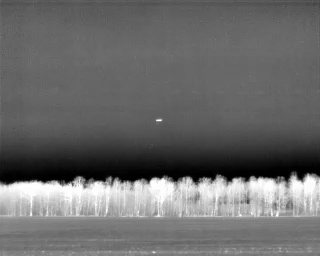DRONE: (153, 114, 166, 126)
